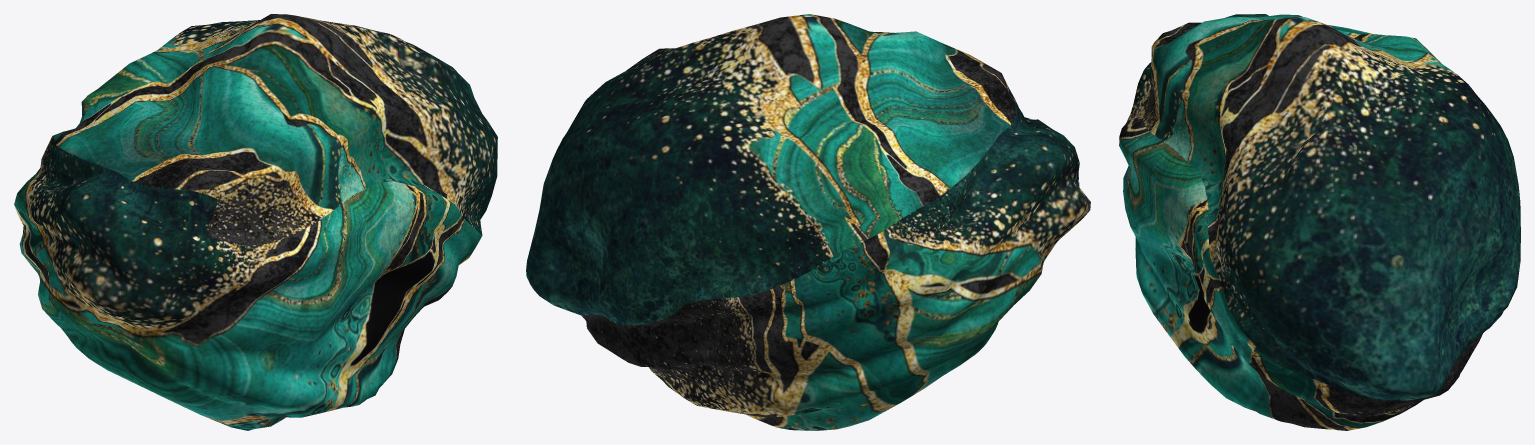
File: stone_tool_gold_jade01.glb
3 renders of one model, left to right at view 1: azimuth 30°, elevation 25°; view 2: azimuth 150°, elevation 25°; view 3: azimuth 270°, elevation 25°, orthographic. The views are drawn at different scales.
Visible parts, largest first — view 1: RustRockPure.001; view 2: RustRockPure.001; view 3: RustRockPure.001.
Part boxes in pixels (<box>): RustRockPure.001: <box>14,14,497,430</box>; RustRockPure.001: <box>526,14,1090,430</box>; RustRockPure.001: <box>1119,14,1520,430</box>.
Size of the model in its own units: 0.2477 by 0.1969 by 0.1869.
1 material, 1 textured.
